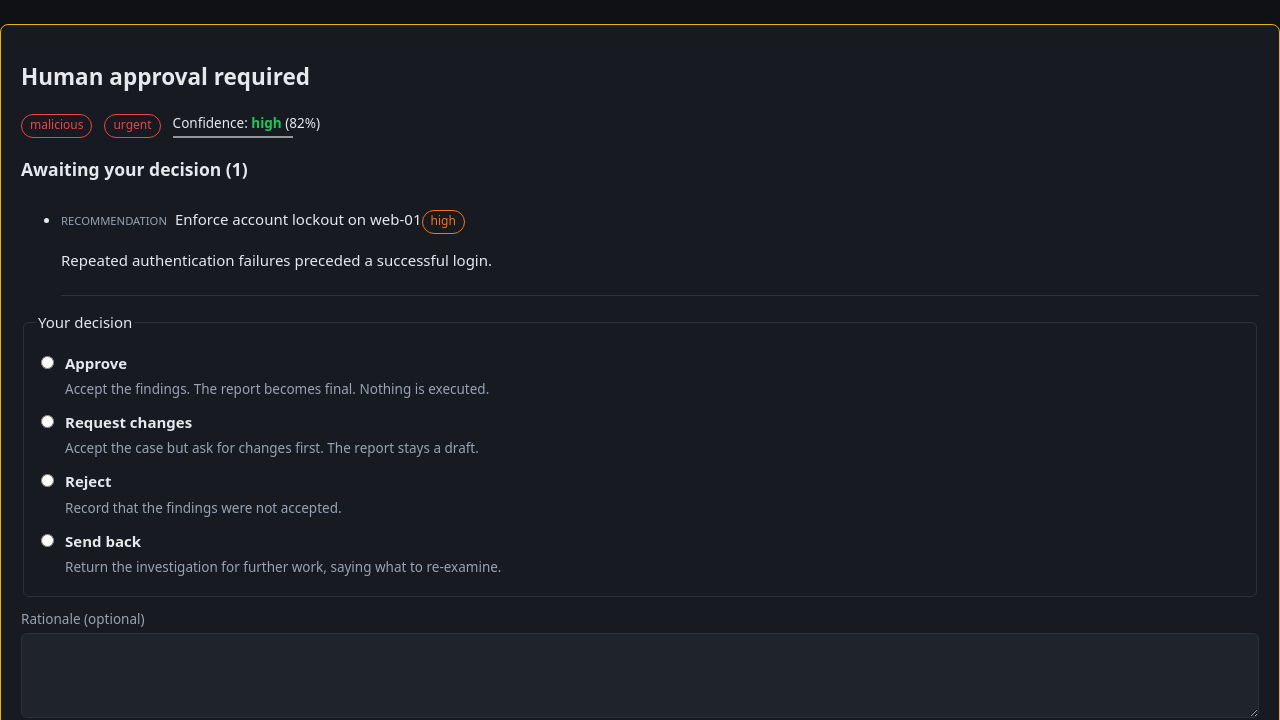
Test: what the analyst may do › requires a reason for redirect
Click the radio button labelled "Send back" at (48, 540), box [41,534,54,547]
(page scrolled)
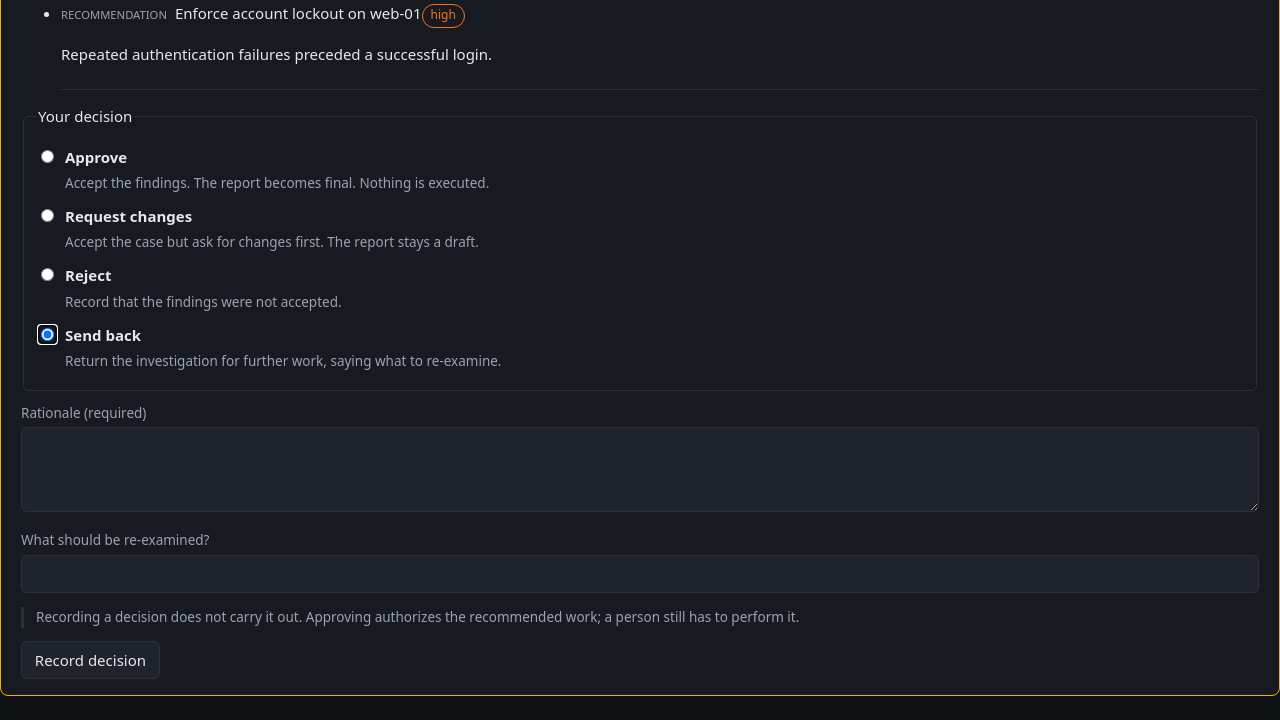
Click the button "Record decision" at (90, 660), box [21,641,160,679]
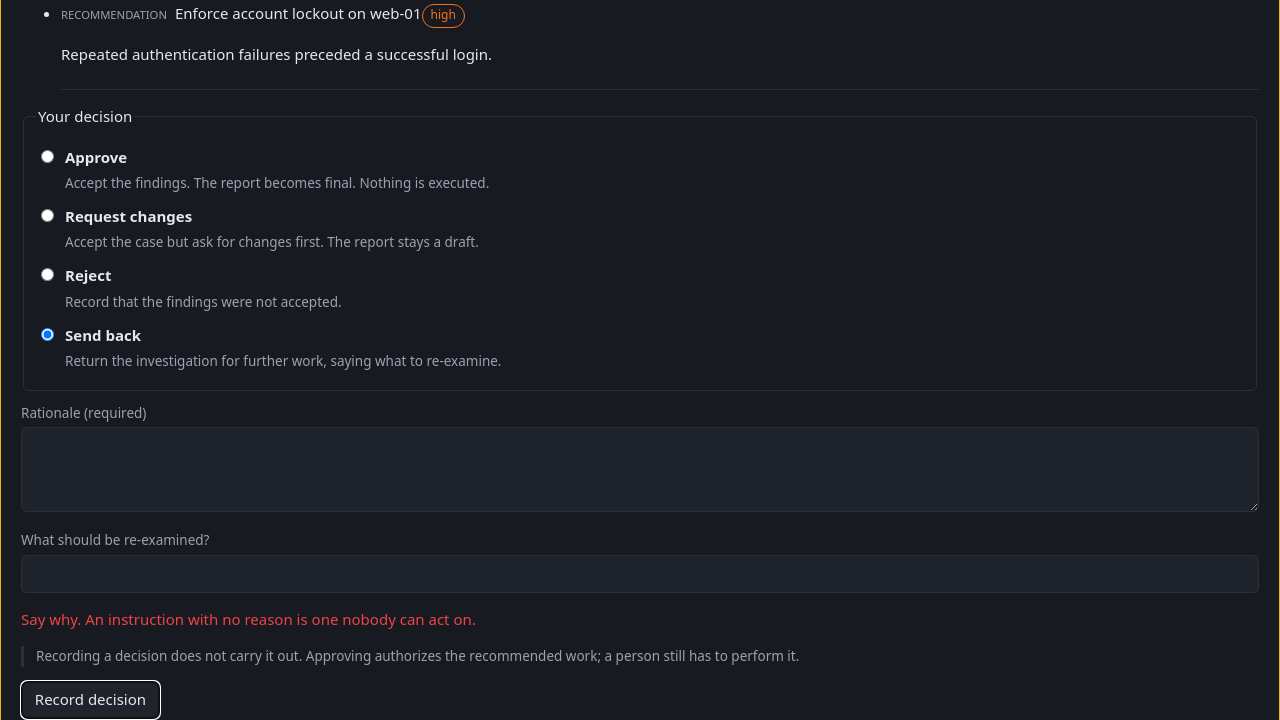
expect the message shows "Say why": met, box [21,609,476,629]
